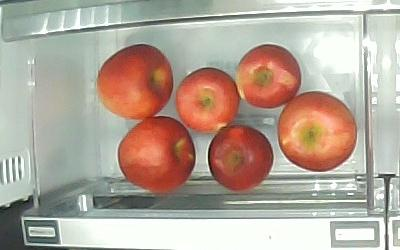apple: (277, 90, 357, 172), (117, 115, 196, 194), (95, 44, 173, 120), (234, 43, 302, 109), (208, 124, 273, 192), (176, 66, 239, 134)
